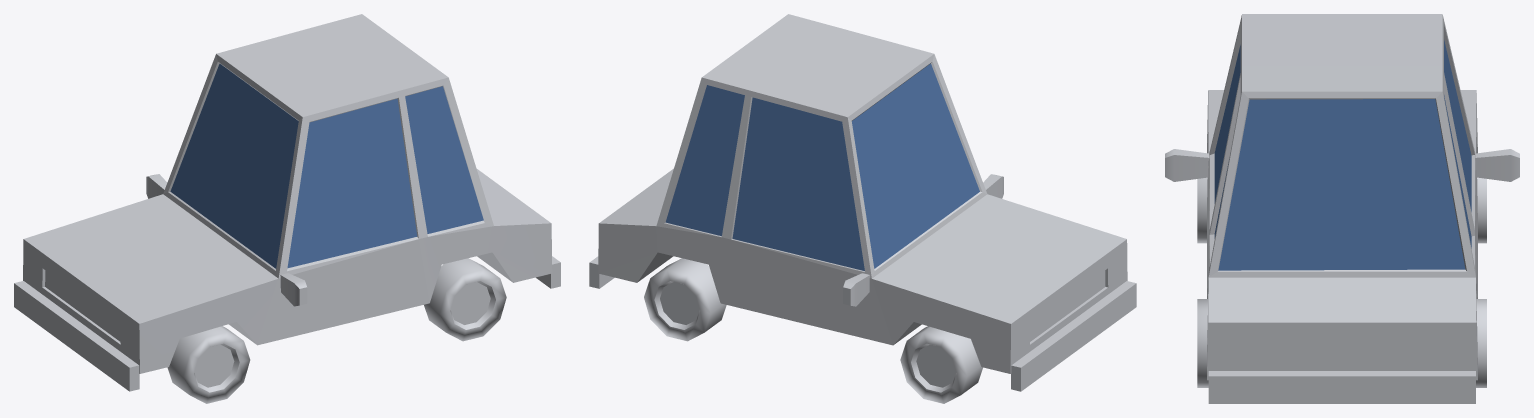
The model's file is RegCar 1.fbx.
3 renders of one model, left to right at view 1: azimuth 30°, elevation 25°; view 2: azimuth 150°, elevation 25°; view 3: azimuth 270°, elevation 25°, orthographic. The views are drawn at different scales.
Parts seen in each view (by area): view 1: RegCar; view 2: RegCar; view 3: RegCar.
Part boxes in pixels (box(x1,y1,x2,y2)): RegCar: box(14, 14, 560, 403); RegCar: box(589, 14, 1136, 403); RegCar: box(1165, 14, 1519, 403).
Size of the model in its own units: 216 by 119 by 133.
